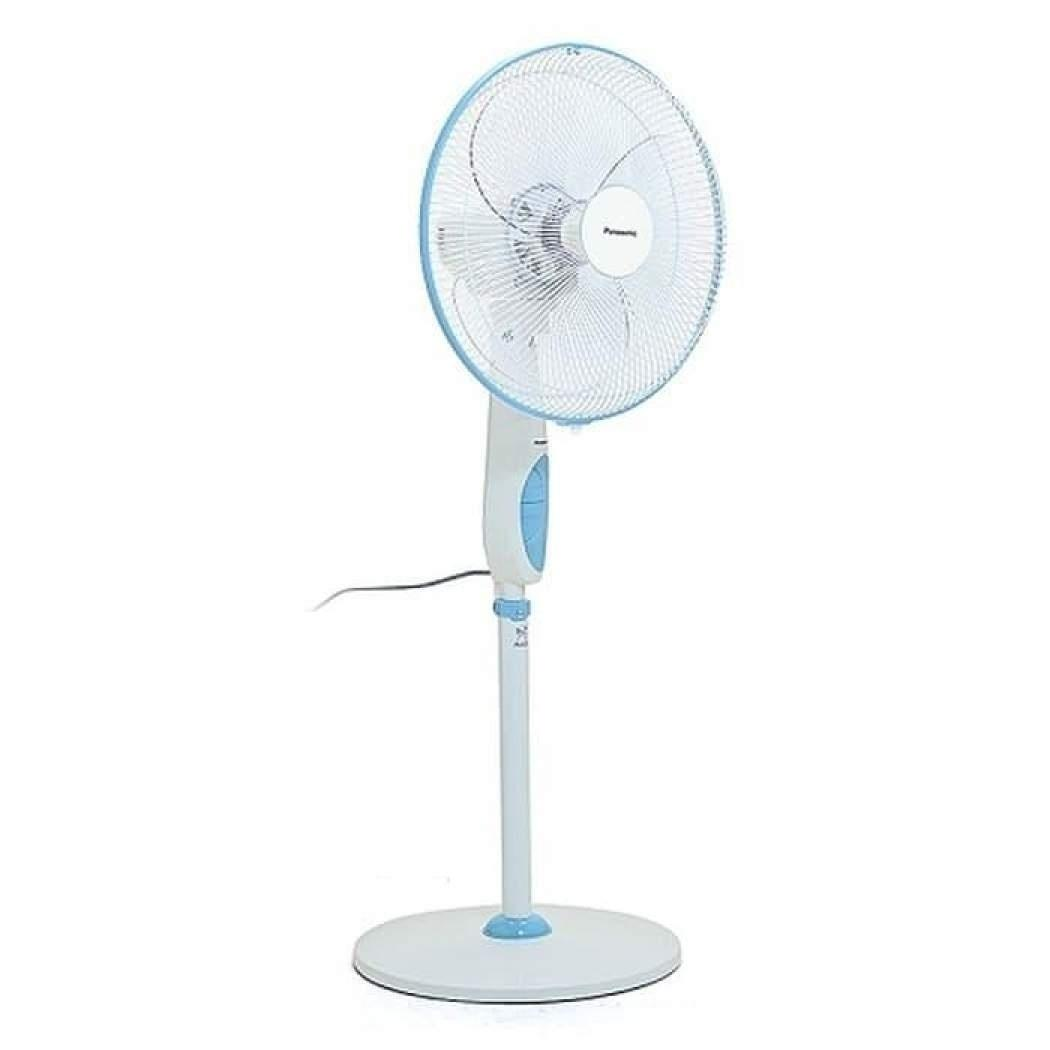fan: (298, 0, 740, 991)
